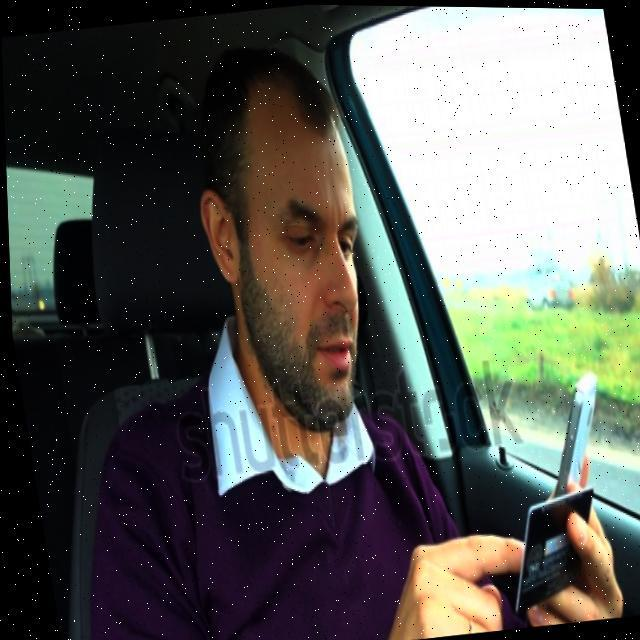PhoneCall: (506, 362, 612, 498)
